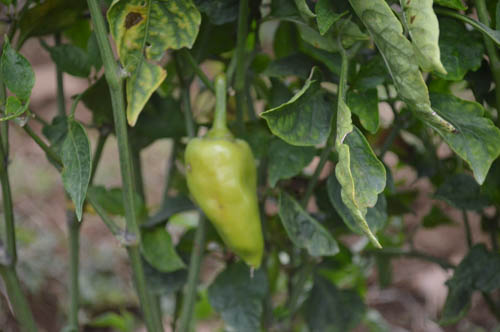ChiliPepper: (183, 139, 265, 274)
